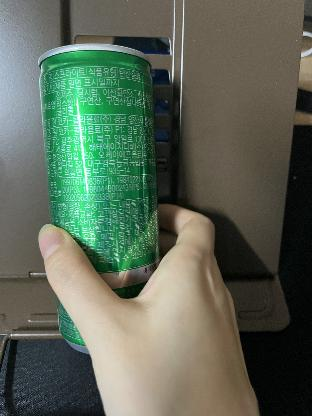Can: (35, 46, 162, 296)
